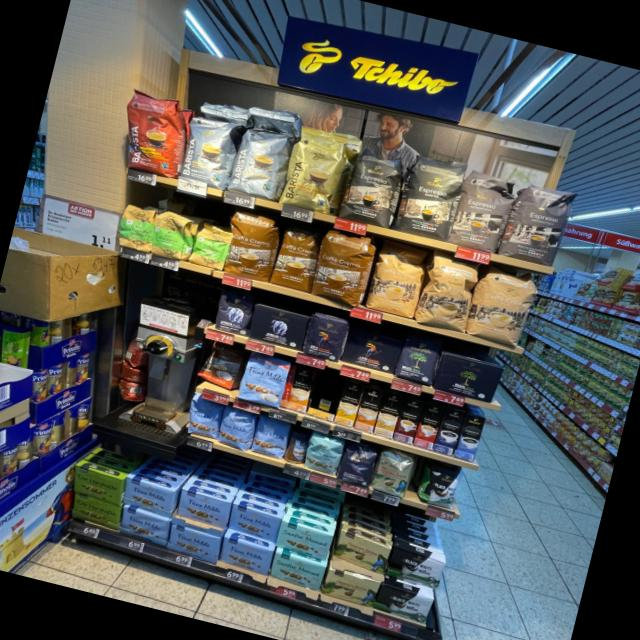AB Bohne: (210, 287, 256, 337)
AB Gemahlen: (247, 301, 310, 351)
Athiopien Bohne: (113, 202, 158, 254)
Athiopien Gemahlen: (147, 207, 195, 262), (188, 220, 232, 270)
BM Bohne: (394, 332, 444, 386)
BM Gemahlen: (433, 352, 504, 404)
BW Bohne: (421, 462, 464, 511)
BW Gemahlen: (385, 543, 450, 591), (372, 582, 435, 625)
Barista CB: (278, 122, 353, 216)
Barista CC: (226, 123, 294, 203), (175, 113, 239, 190)
Barista Kolumbien: (110, 86, 192, 178)
C Fino Bohne: (336, 442, 378, 488)
CC Mild: (464, 264, 540, 349), (415, 250, 481, 334), (364, 239, 429, 319)
CC Vollmundig 36 Pads: (308, 226, 377, 308), (218, 208, 284, 284), (268, 225, 324, 294)
Colombia BB Bohne: (369, 447, 417, 499)
Colombia BB Gemahlen: (333, 527, 391, 577), (319, 566, 382, 608)
Espresso Aromatisch: (499, 178, 575, 268), (448, 165, 517, 254)
Espresso Kraftig: (394, 151, 466, 242), (338, 148, 408, 230)
FM 36 Pads: (236, 350, 292, 409)
FM Bohne: (250, 413, 292, 460), (217, 404, 258, 452), (182, 396, 226, 440)
FM Gemahlen: (166, 521, 222, 564), (218, 534, 275, 576), (176, 487, 232, 529), (122, 474, 174, 519), (227, 501, 282, 543), (120, 503, 170, 547)
FM Instant: (282, 428, 311, 467)
Herzhatfe Mundig: (71, 464, 123, 506), (71, 491, 122, 531)
LG Bohne: (302, 311, 352, 363)
LG Gemahlen: (341, 325, 404, 376)
SM Bohne: (302, 432, 345, 478)
SM Gemahlen: (268, 550, 328, 593), (273, 519, 333, 562)
Simo CCMild bigpack: (333, 380, 364, 426)
Simo CCVollmundig: (280, 363, 316, 413)
Simo CCVollmundig bigpack: (353, 385, 383, 433)
Simo Decaff: (373, 390, 403, 438)
Simo Es Brazil: (412, 401, 445, 449)
Simo Es Caramel: (393, 396, 423, 444)
Simo Es Kraft: (433, 405, 466, 456)
Simo Es Vanilla: (454, 413, 486, 461)
